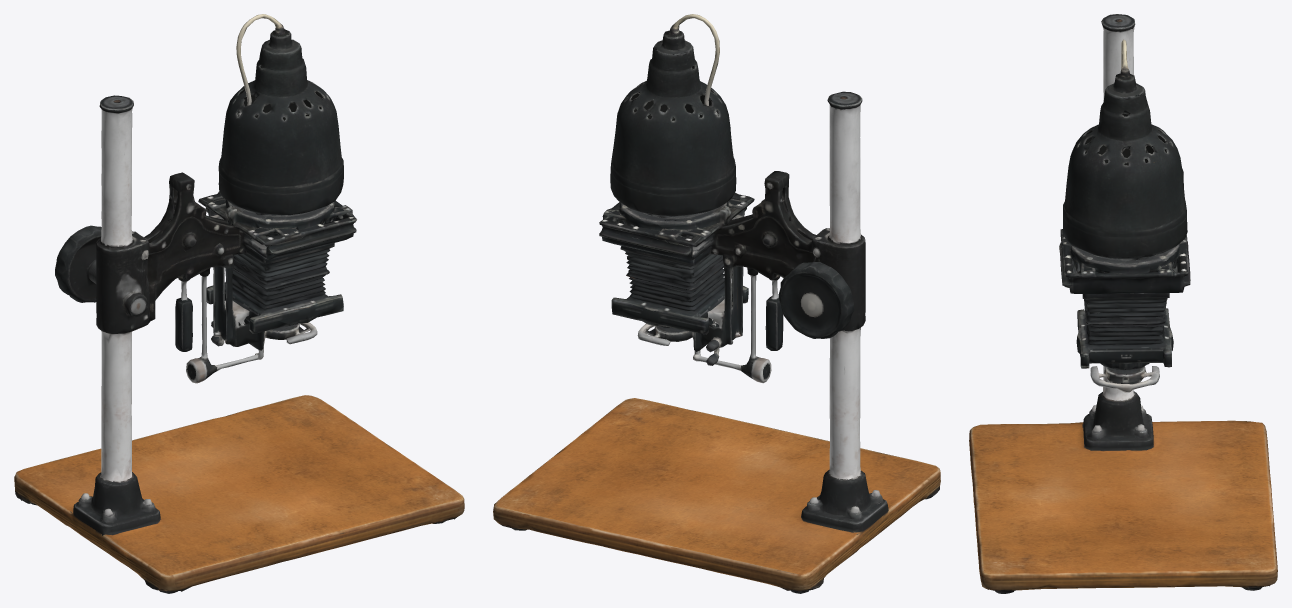
File: PhotoEnlarger.fbx
3 views of the same model, side by side, from view 1: azimuth 30°, elevation 25°; view 2: azimuth 150°, elevation 25°; view 3: azimuth 270°, elevation 25° (orthographic).
Visible parts, largest first — view 1: PhotoEnlarger; view 2: PhotoEnlarger; view 3: PhotoEnlarger.
Boxes of the visible parts, x1,y1,x2,y2 form: PhotoEnlarger: (14, 14, 464, 593); PhotoEnlarger: (493, 14, 940, 593); PhotoEnlarger: (969, 14, 1277, 593).
Size of the model in its own units: 0.5806 by 0.85 by 0.484.
Materials: 1 (1 with a texture image).
